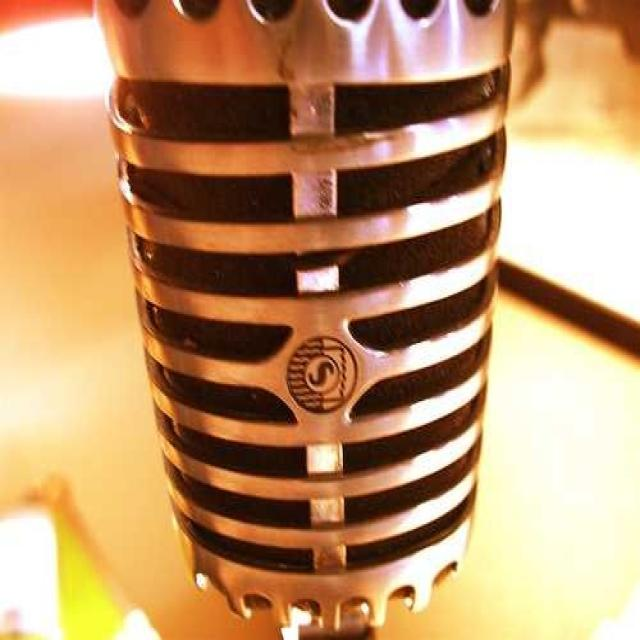microphone: (88, 0, 518, 633)
